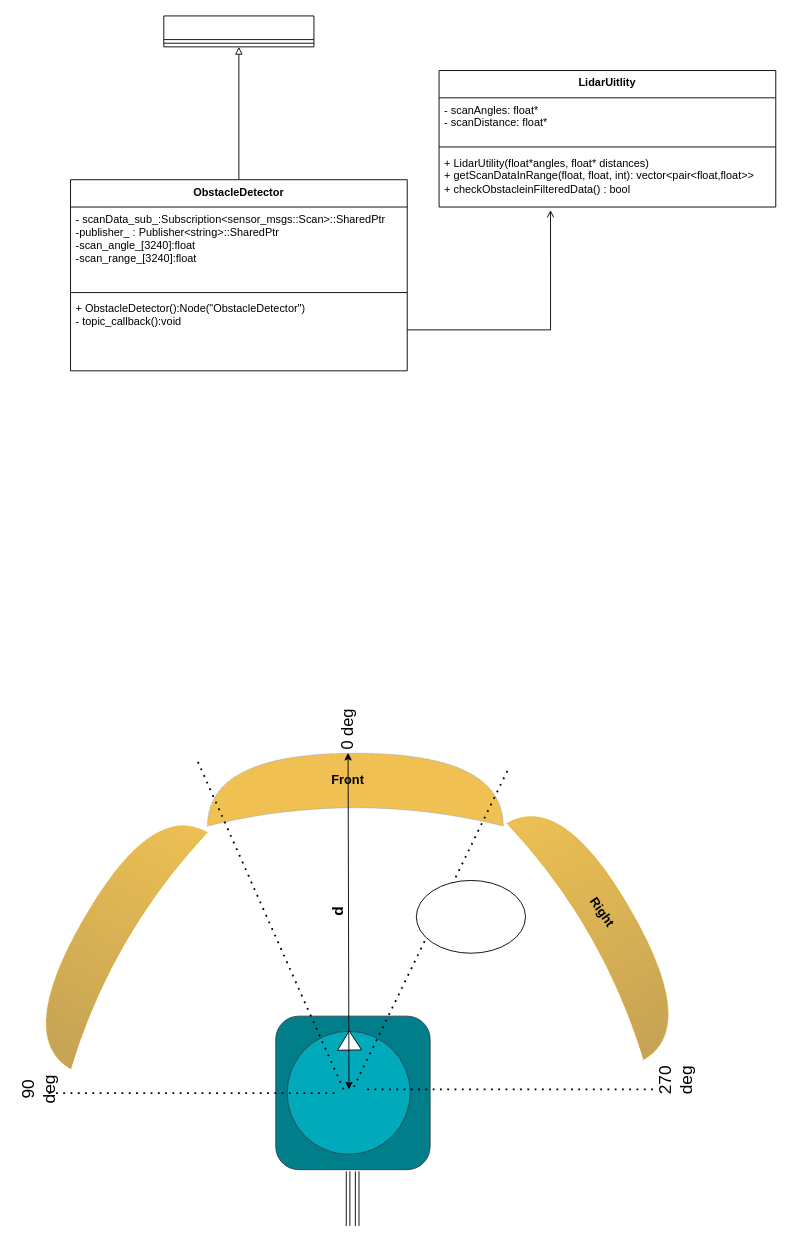
Some shapes in this 793 by 1242 pixel diagram are drawn without their labels. Here are the shapes that lost their labels. From the top down, the centre of each, then its label:
At point (238, 31): "rclcpp::Node".
At point (111, 934): "Left".
